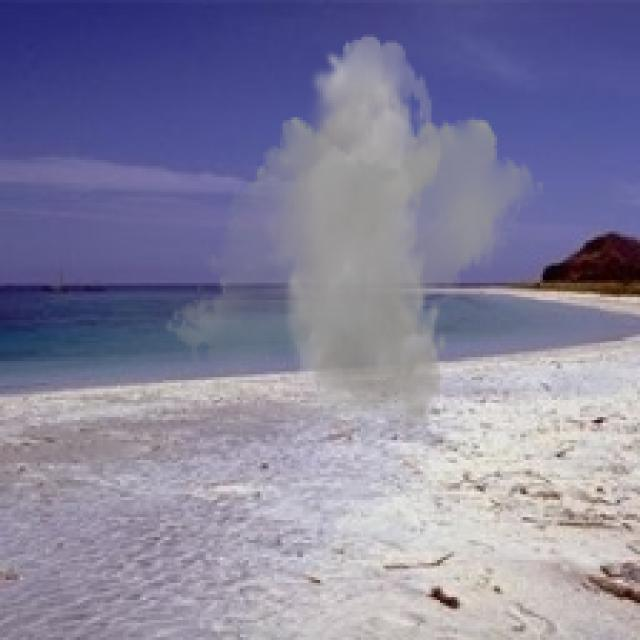smoke: (163, 34, 546, 434)
